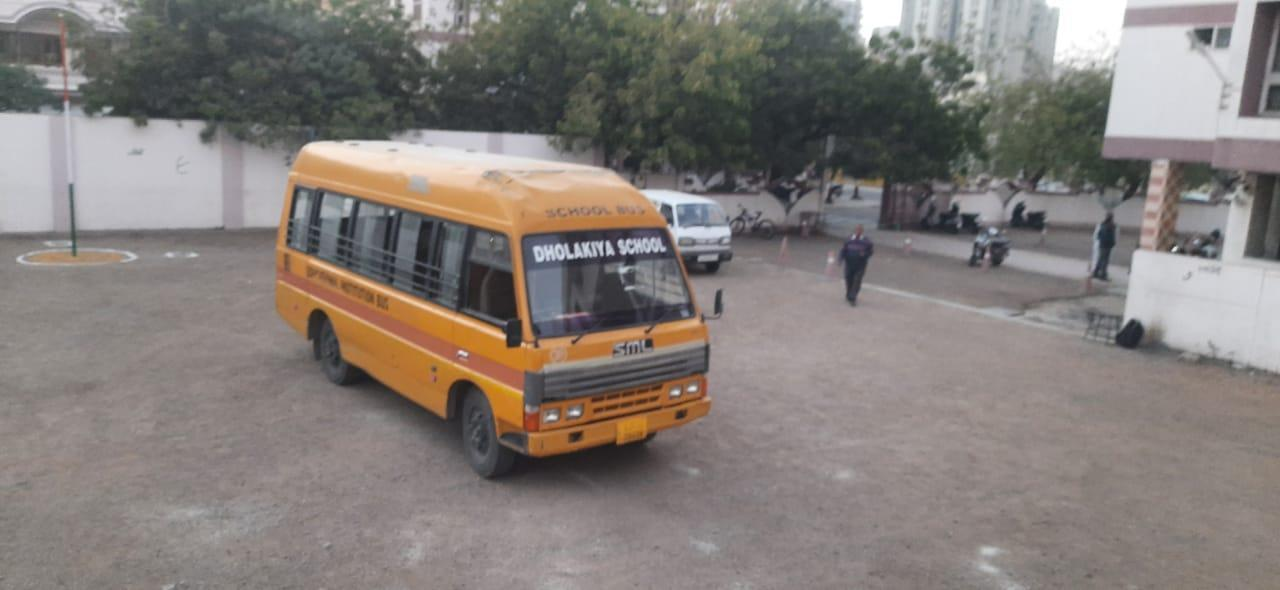Bus: (266, 114, 732, 492)
